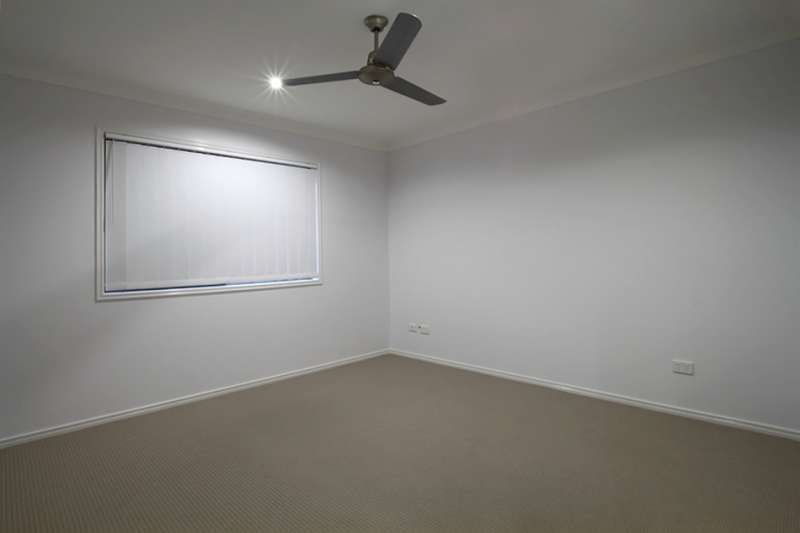ceiling fan: (247, 6, 476, 116)
